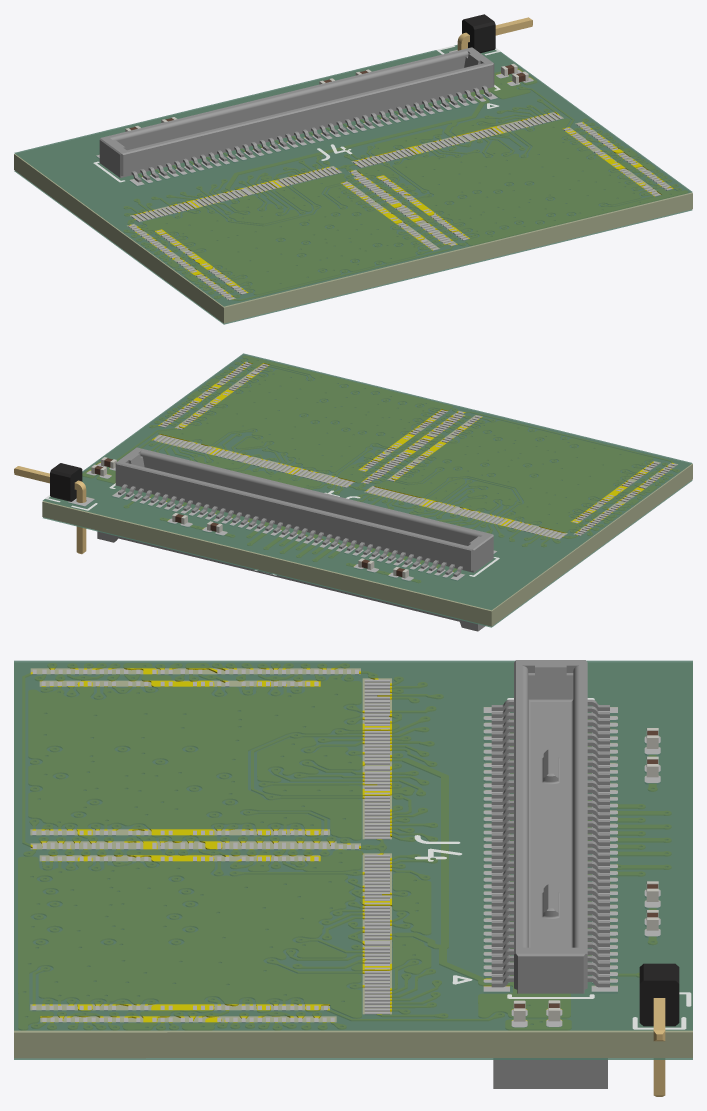
File: asic-bottom-v3-0p8mm.glb
3 views of the same model, one above another, from view 1: azimuth 30°, elevation 25°; view 2: azimuth 150°, elevation 25°; view 3: azimuth 270°, elevation 25° (orthographic). The views are drawn at different scales.
Parts seen in each view (by area): view 1: =>[0:1:1:15], =>[0:1:1:10], =>[0:1:1:17], =>[0:1:1:5], =>[0:1:1:11], =>[0:1:1:7], =>[0:1:1:16]; view 2: =>[0:1:1:15], =>[0:1:1:10], =>[0:1:1:17], =>[0:1:1:5], =>[0:1:1:11], =>[0:1:1:7], =>[0:1:1:9], =>[0:1:1:16]; view 3: =>[0:1:1:15], =>[0:1:1:10], =>[0:1:1:17], =>[0:1:1:5], =>[0:1:1:11], =>[0:1:1:9], =>[0:1:1:7], =>[0:1:1:12], =>[0:1:1:16], =>[0:1:1:13].
Part boxes in pixels (left/top/right/bottom): =>[0:1:1:15]: left=14, top=44, right=692, bottom=306; =>[0:1:1:10]: left=124, top=68, right=687, bottom=300; =>[0:1:1:17]: left=14, top=46, right=692, bottom=323; =>[0:1:1:5]: left=99, top=47, right=494, bottom=182; =>[0:1:1:11]: left=96, top=50, right=671, bottom=300; =>[0:1:1:7]: left=457, top=14, right=532, bottom=53; =>[0:1:1:16]: left=14, top=171, right=692, bottom=324; =>[0:1:1:15]: left=42, top=353, right=692, bottom=610; =>[0:1:1:10]: left=83, top=356, right=679, bottom=582; =>[0:1:1:17]: left=42, top=355, right=692, bottom=626; =>[0:1:1:5]: left=115, top=447, right=493, bottom=576; =>[0:1:1:11]: left=68, top=362, right=676, bottom=580; =>[0:1:1:7]: left=14, top=463, right=86, bottom=554; =>[0:1:1:9]: left=97, top=531, right=485, bottom=631; =>[0:1:1:16]: left=43, top=480, right=692, bottom=627; =>[0:1:1:15]: left=14, top=660, right=692, bottom=1030; =>[0:1:1:10]: left=18, top=663, right=670, bottom=1029; =>[0:1:1:17]: left=14, top=663, right=692, bottom=1058; =>[0:1:1:5]: left=491, top=660, right=609, bottom=993; =>[0:1:1:11]: left=32, top=669, right=660, bottom=1027; =>[0:1:1:9]: left=493, top=1058, right=607, bottom=1088; =>[0:1:1:7]: left=639, top=963, right=679, bottom=1096; =>[0:1:1:12]: left=23, top=664, right=668, bottom=1027; =>[0:1:1:16]: left=14, top=1058, right=692, bottom=1059; =>[0:1:1:13]: left=414, top=698, right=691, bottom=1029.
Size of the model in its own units: 0.0238 by 0.00377 by 0.017.
